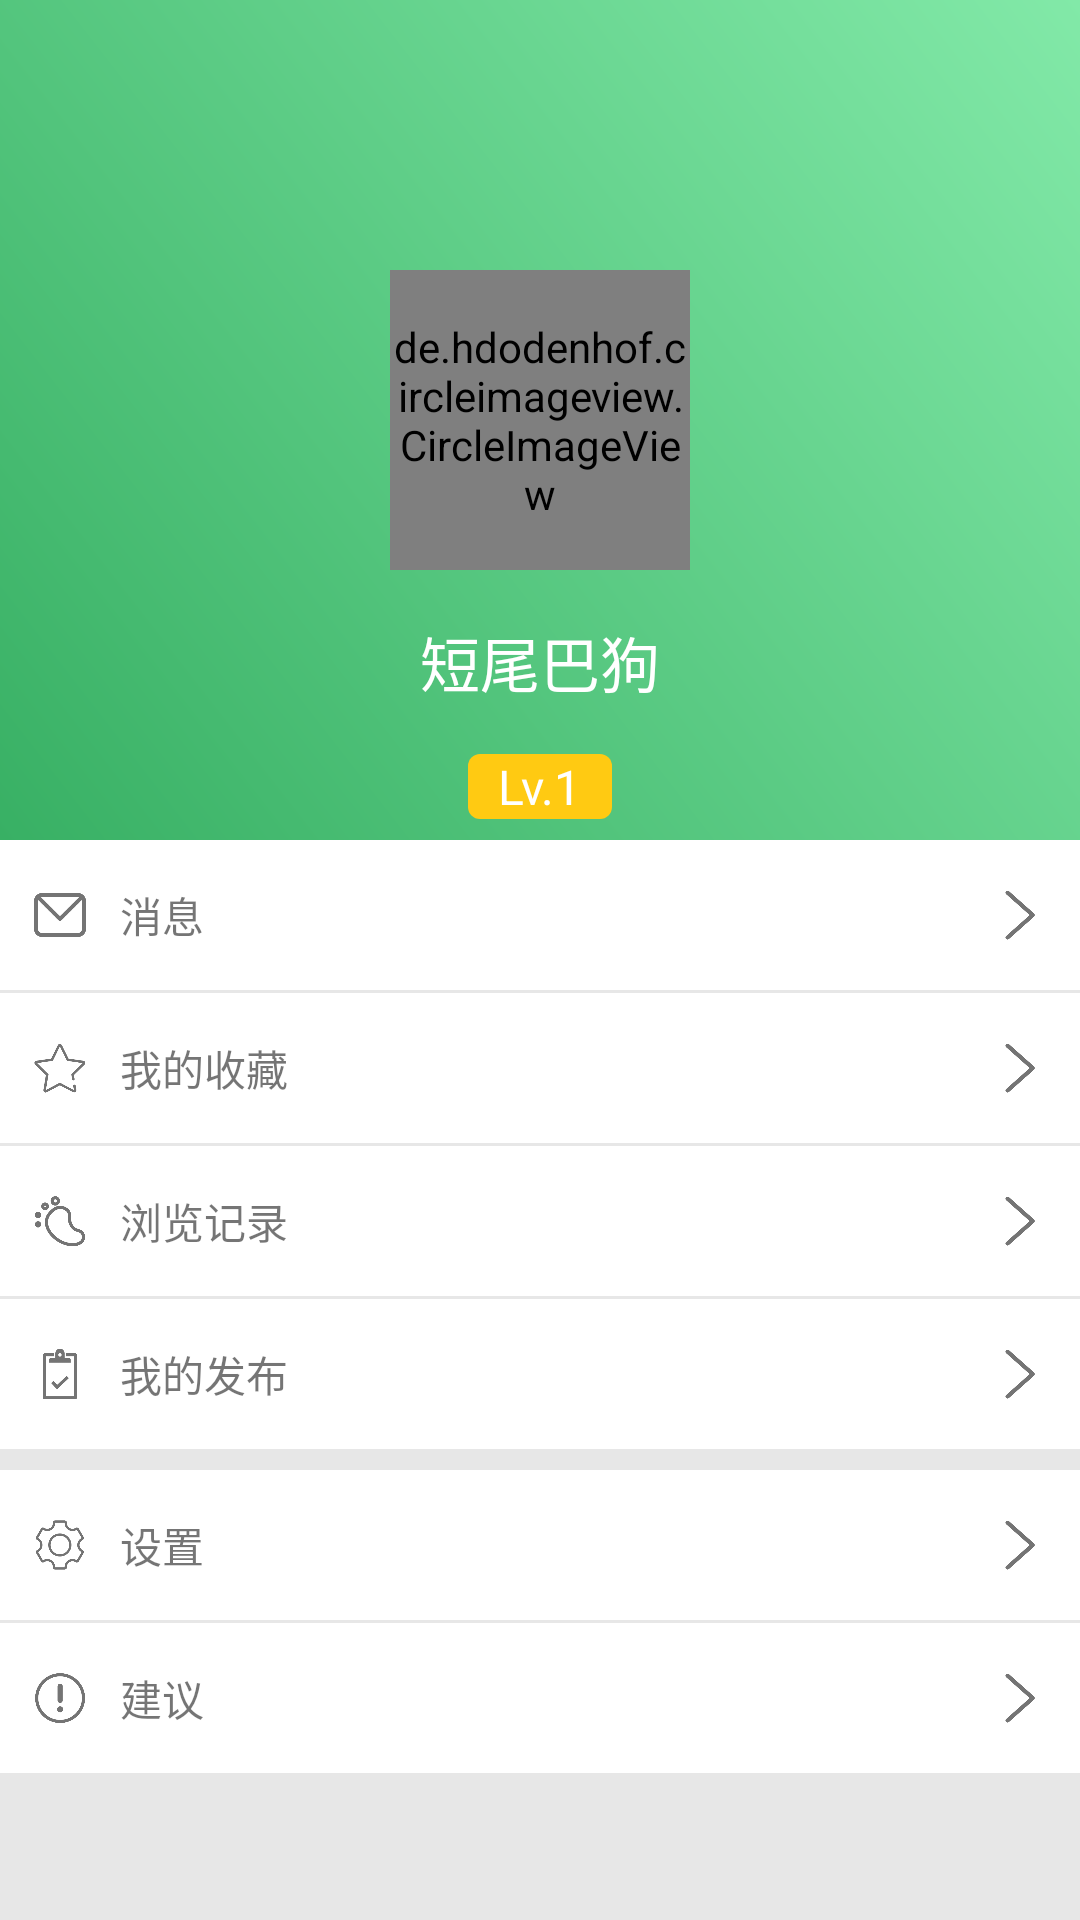

Named icons in this screenshot (1080 x 1920) and their bounding boxes, rect(x1, y1, x2, y2):
collection: rect(34, 1044, 85, 1093)
history: rect(35, 1196, 85, 1246)
right arrow: rect(1005, 891, 1035, 940), rect(1005, 1044, 1035, 1093), rect(1005, 1197, 1035, 1246), rect(1005, 1350, 1035, 1399), rect(1005, 1521, 1035, 1570), rect(1005, 1674, 1035, 1723)
setting: rect(36, 1520, 84, 1570)
suggestion: rect(35, 1673, 85, 1723)
